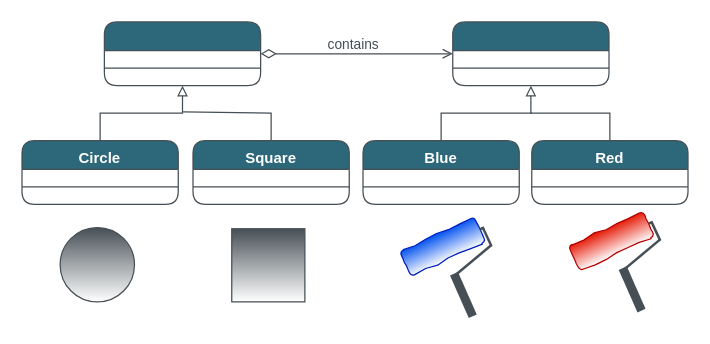
This 710x344 diagram has some shape labels left out. The centre of each missing label's shape, as x and y in pixels:
"Color" goes at (530,53).
"Shape" goes at (182,53).
